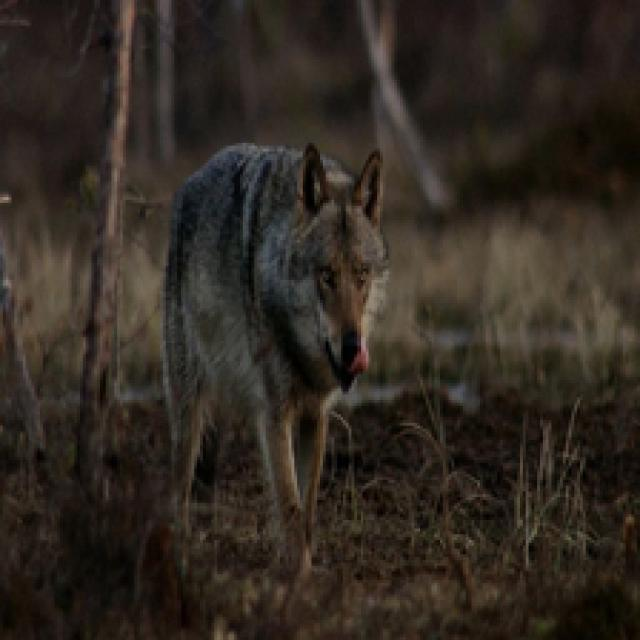wolf: (121, 121, 421, 573)
